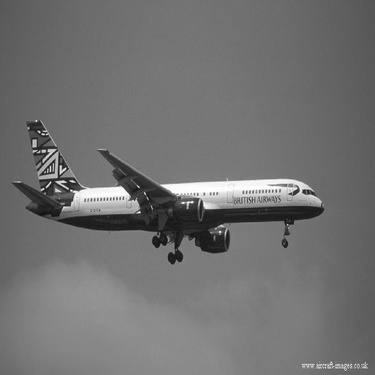airplane: (10, 104, 334, 275)
